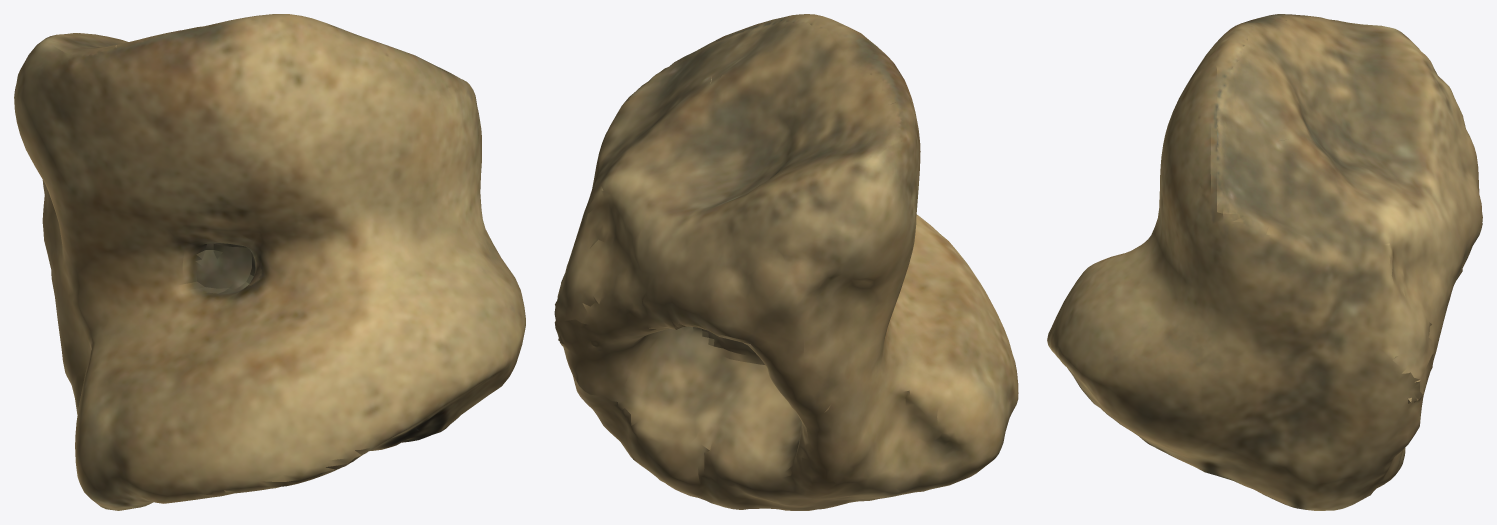
Rendered from lawson_deer_bone_beed.gltf.
The picture shows the model from 3 angles, left to right: view 1: azimuth 30°, elevation 25°; view 2: azimuth 150°, elevation 25°; view 3: azimuth 270°, elevation 25°; orthographic projection. The views are drawn at different scales.
Visible parts, largest first — view 1: Default; view 2: Default; view 3: Default.
Part boxes in pixels (x1=…): Default: x1=14, y1=14, x2=525, y2=510; Default: x1=554, y1=14, x2=1018, y2=510; Default: x1=1047, y1=14, x2=1482, y2=510.
Bounding box in the file's own units: 13.31 × 15.65 × 14.17.
Materials: 1 (1 with a texture image).
